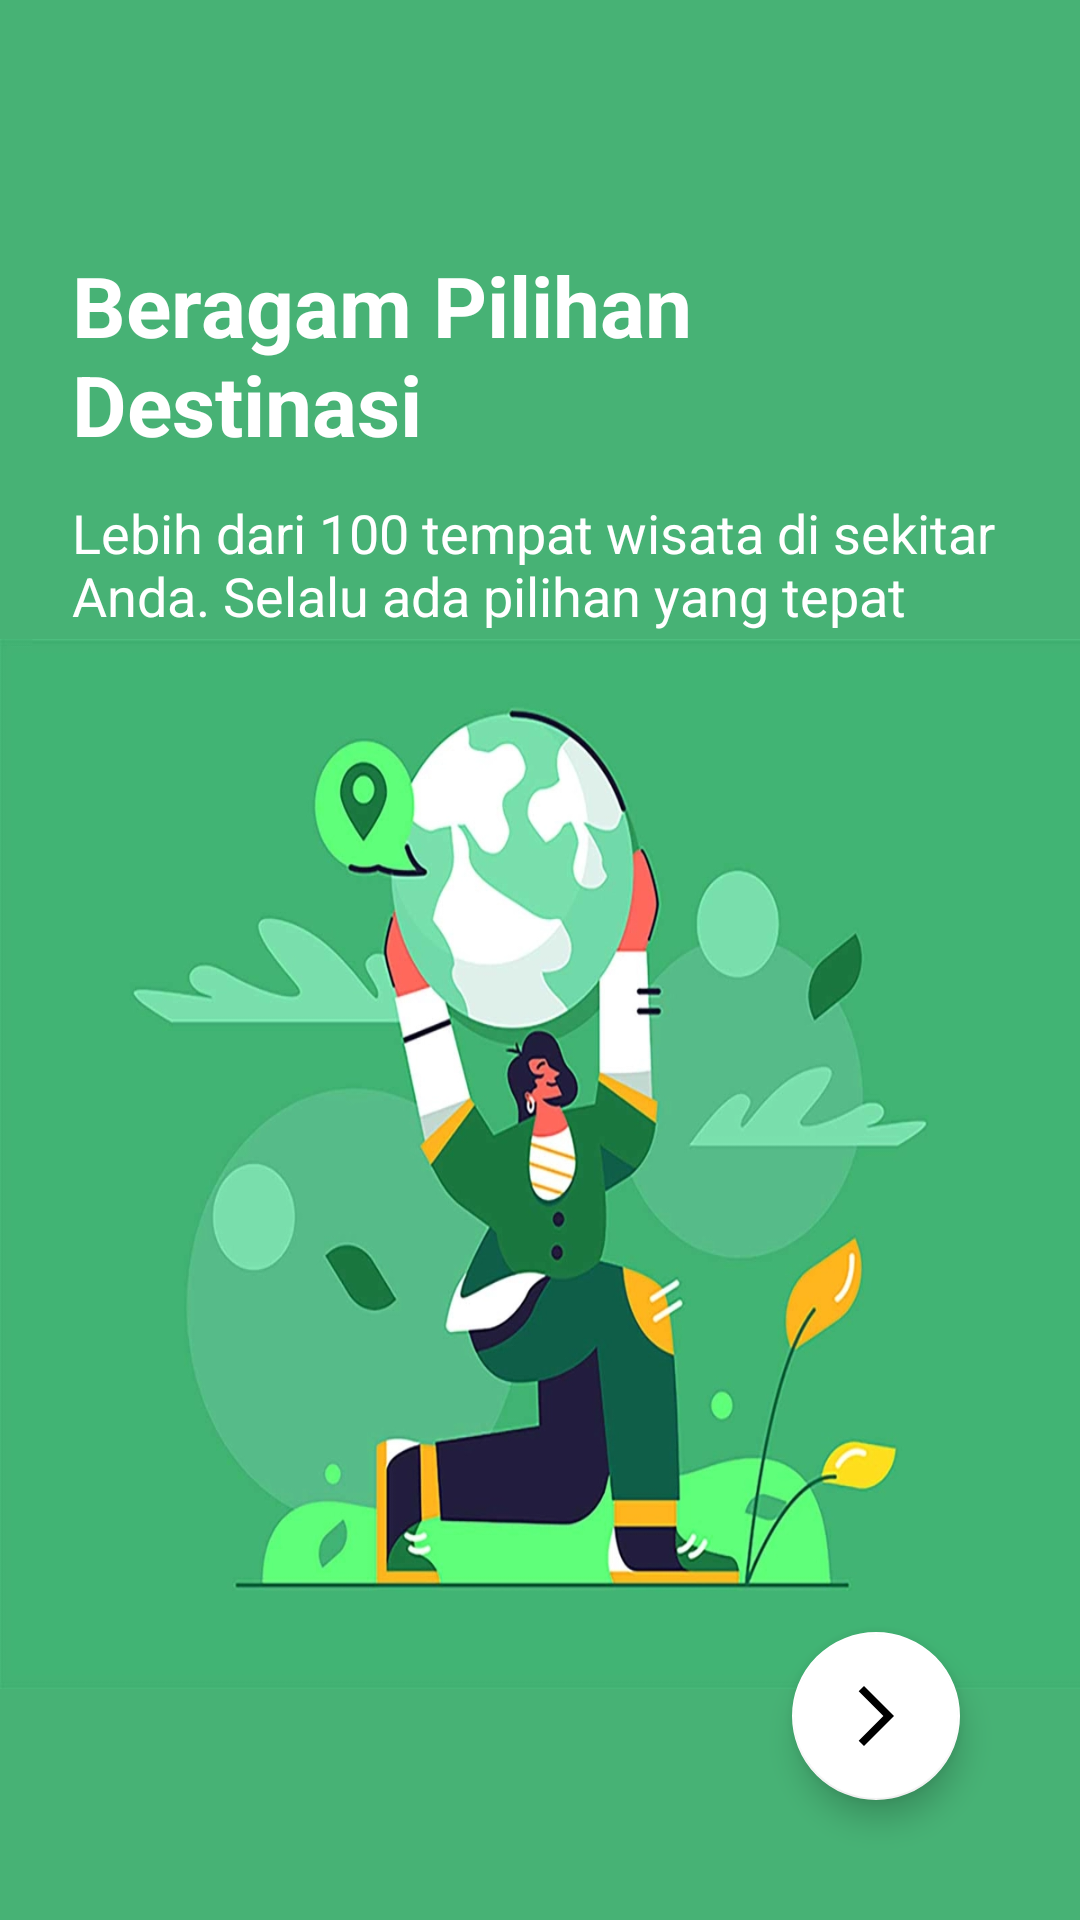

Screen size 1080*1920. Icon name, then its box in pixels as (x1, y1, x2, y2):
swipe new image: (792, 1632, 960, 1800)
